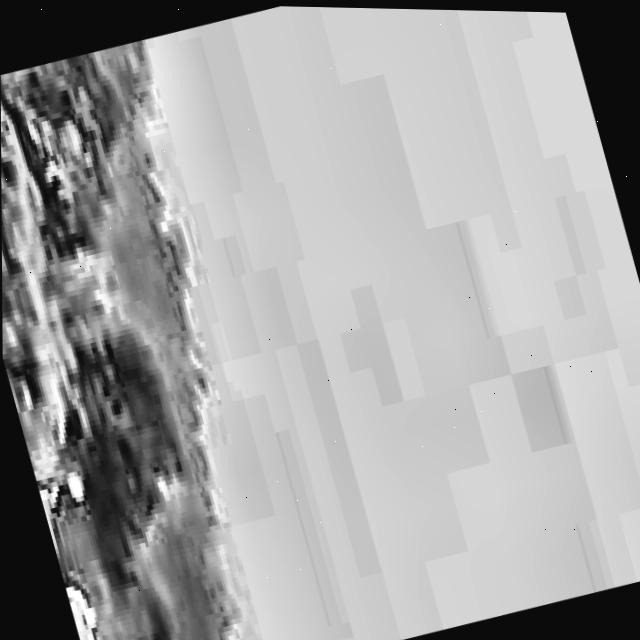Lokomotif: (51, 537, 124, 640)
